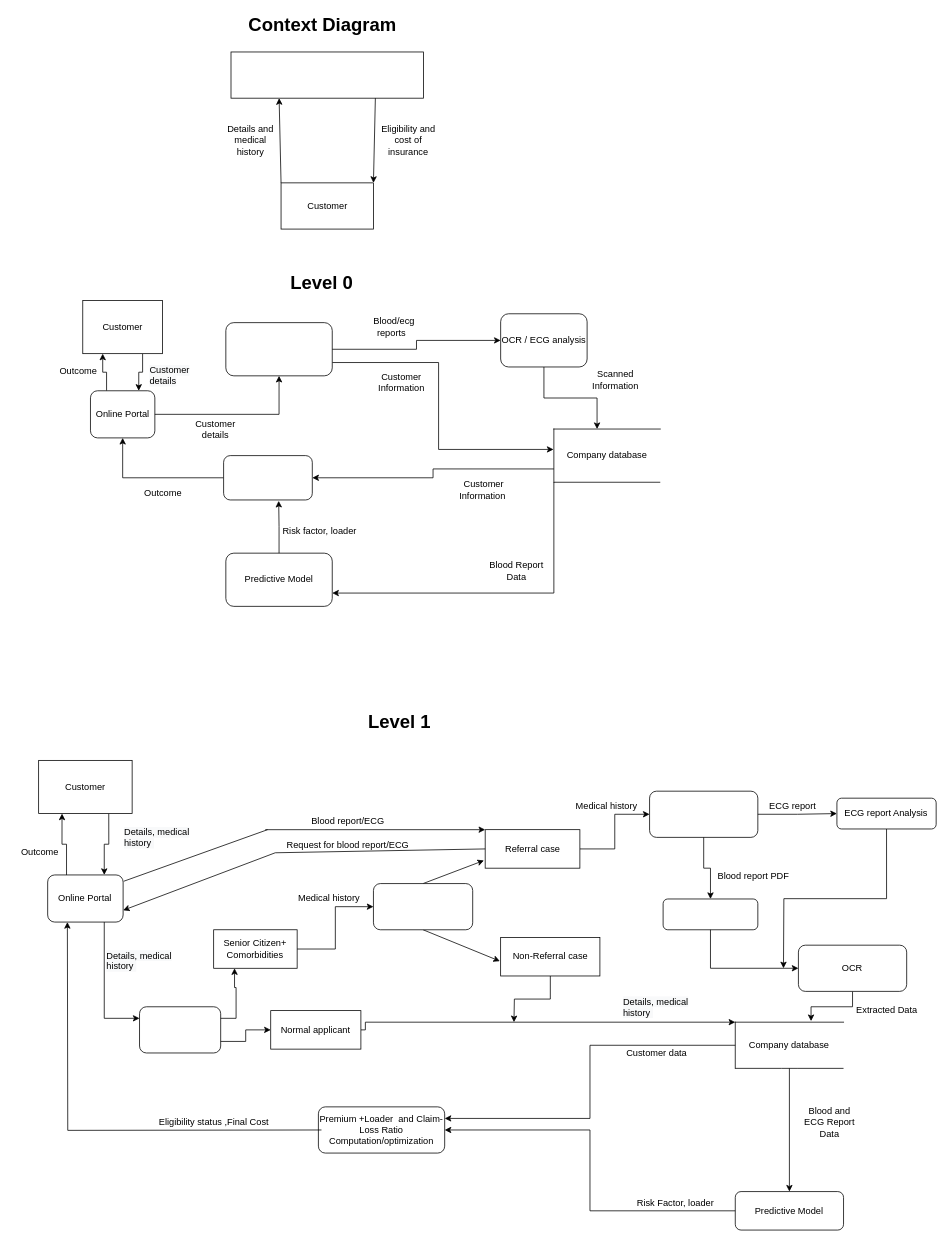
The diagram is 949 pixels wide and 1244 high, and some of its shapes have lost their labels. The centre of each missing label's shape, as x and y in pixels:
"Blood Report Analysis" belongs at [710,914].
"Categorization of applicants" belongs at [180,1029].
"Check customer age and medical history" belongs at [278,349].
"Classifier for ref/non-ref" belongs at [423,906].
"Classifier for Report analysis" belongs at [703,813].
"Eligibility Process and Cost Output" belongs at [267,477].
"Machine Learning Algorithms for Insurance Eligibility, risk factor prediction" belongs at [327,74].
